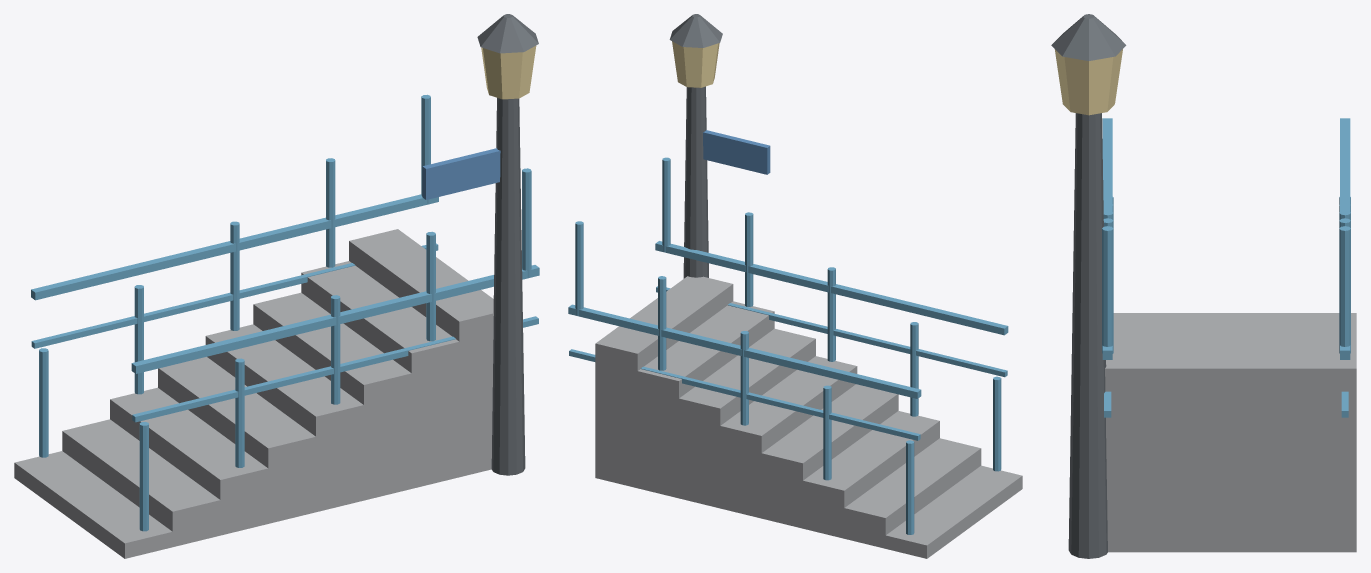
The model's file is prop_26_doc_nha_bo_stepped_handrail_vintage_lamp_and_slope_sign_kit.glb.
3 views of the same model, side by side, from view 1: azimuth 30°, elevation 25°; view 2: azimuth 150°, elevation 25°; view 3: azimuth 270°, elevation 25° (orthographic). The views are drawn at different scales.
Visible parts, largest first — view 1: prop_26_doc_nha_bo_stepped_handrail_vintage_lamp_and_slope_s; view 2: prop_26_doc_nha_bo_stepped_handrail_vintage_lamp_and_slope_s; view 3: prop_26_doc_nha_bo_stepped_handrail_vintage_lamp_and_slope_s.
Boxes of the visible parts, x1,y1,x2,y2 form: prop_26_doc_nha_bo_stepped_handrail_vintage_lamp_and_slope_s: (14,14,539,558); prop_26_doc_nha_bo_stepped_handrail_vintage_lamp_and_slope_s: (568,14,1022,558); prop_26_doc_nha_bo_stepped_handrail_vintage_lamp_and_slope_s: (1051,14,1356,558).
Size of the model in its own units: 3.93 by 4.07 by 2.11.
